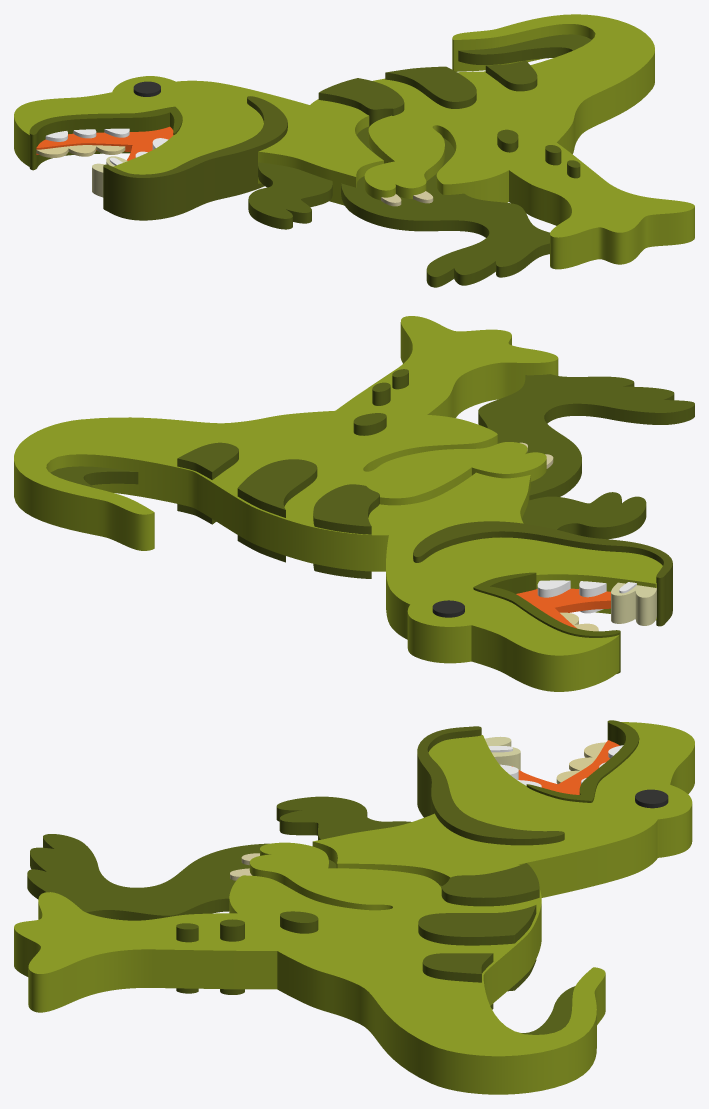
File: emoji_u1f996.glb
The picture shows the model from 3 angles, top to bottom: view 1: azimuth 30°, elevation 25°; view 2: azimuth 150°, elevation 25°; view 3: azimuth 270°, elevation 25°; orthographic projection. The views are drawn at different scales.
Visible parts, largest first — view 1: emoji_u1f996; view 2: emoji_u1f996; view 3: emoji_u1f996.
Part boxes in pixels (x1,y1,x2,y2): emoji_u1f996: (14,14,694,287); emoji_u1f996: (14,316,694,691); emoji_u1f996: (14,720,694,1094).
Size of the model in its own units: 0.0335 by 0.0032 by 0.0289.
